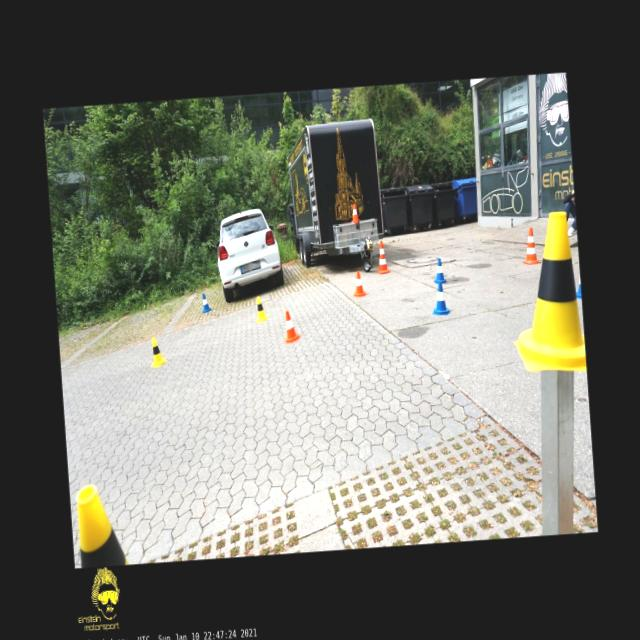blue_cone: (430, 280, 451, 316), (433, 257, 446, 283), (200, 293, 210, 312)
large_orange_cone: (521, 227, 541, 264), (375, 240, 389, 273)
orange_cone: (283, 310, 300, 342), (352, 270, 366, 296), (350, 203, 360, 222)
yellow_cone: (505, 210, 586, 374), (149, 336, 166, 366), (254, 296, 267, 322)
